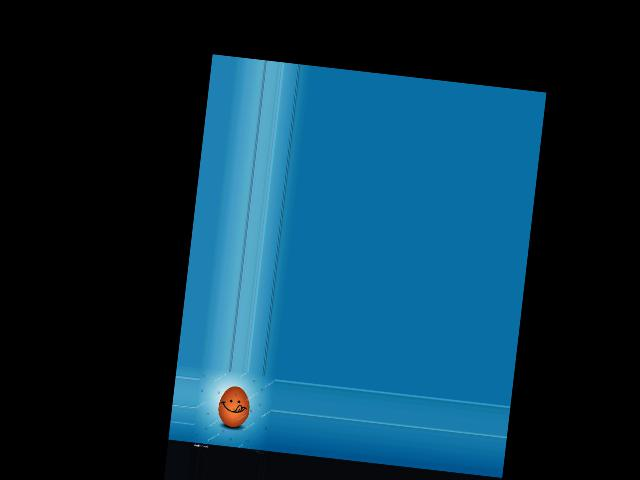egg: (216, 384, 252, 428)
